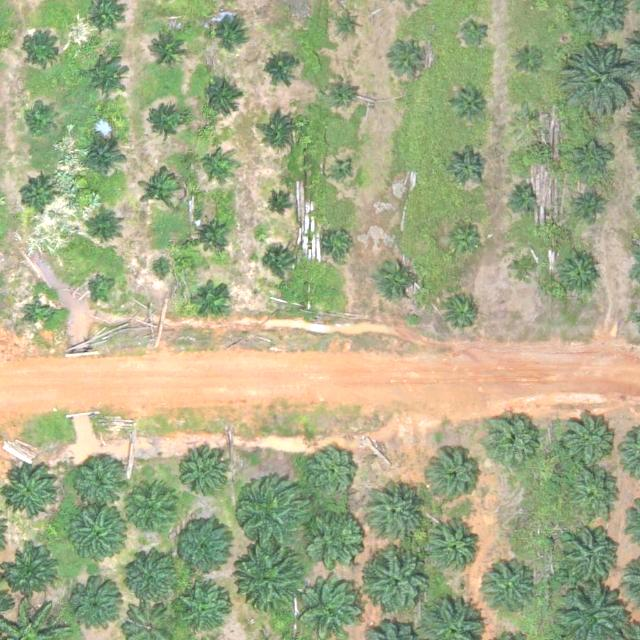Kelapa_Sawit: (234, 473, 312, 551), (559, 42, 637, 120), (362, 549, 432, 619), (474, 559, 536, 622), (364, 481, 426, 544), (242, 547, 304, 610), (557, 523, 619, 585), (305, 501, 367, 563), (483, 412, 538, 467), (422, 519, 477, 574), (68, 509, 123, 564), (71, 581, 126, 636), (70, 451, 124, 506), (124, 548, 178, 603), (568, 466, 622, 521), (561, 414, 615, 469), (428, 449, 482, 504), (3, 542, 57, 597), (0, 461, 54, 516), (126, 480, 180, 535), (180, 444, 234, 499), (175, 519, 229, 574), (305, 447, 359, 502), (142, 105, 188, 152), (82, 54, 128, 101), (145, 26, 191, 73), (374, 256, 420, 303), (137, 168, 183, 215), (81, 136, 127, 182), (555, 249, 601, 295), (393, 38, 432, 77), (208, 10, 247, 49), (194, 279, 233, 318), (86, 210, 125, 249), (193, 213, 232, 252), (18, 178, 57, 217), (448, 83, 487, 122), (448, 148, 487, 187), (443, 293, 482, 332), (443, 220, 482, 259), (262, 111, 300, 150), (261, 49, 299, 88), (22, 30, 60, 69), (201, 77, 240, 115), (572, 140, 610, 179), (199, 146, 230, 177), (23, 104, 54, 135), (262, 248, 293, 279), (325, 227, 356, 258), (576, 189, 607, 220), (513, 39, 544, 70), (512, 100, 543, 131), (506, 180, 537, 211), (508, 253, 539, 284), (460, 15, 491, 46), (326, 76, 357, 107), (89, 272, 120, 303), (23, 298, 54, 329), (337, 13, 360, 36), (330, 162, 353, 185), (264, 194, 287, 217), (149, 258, 172, 281)
